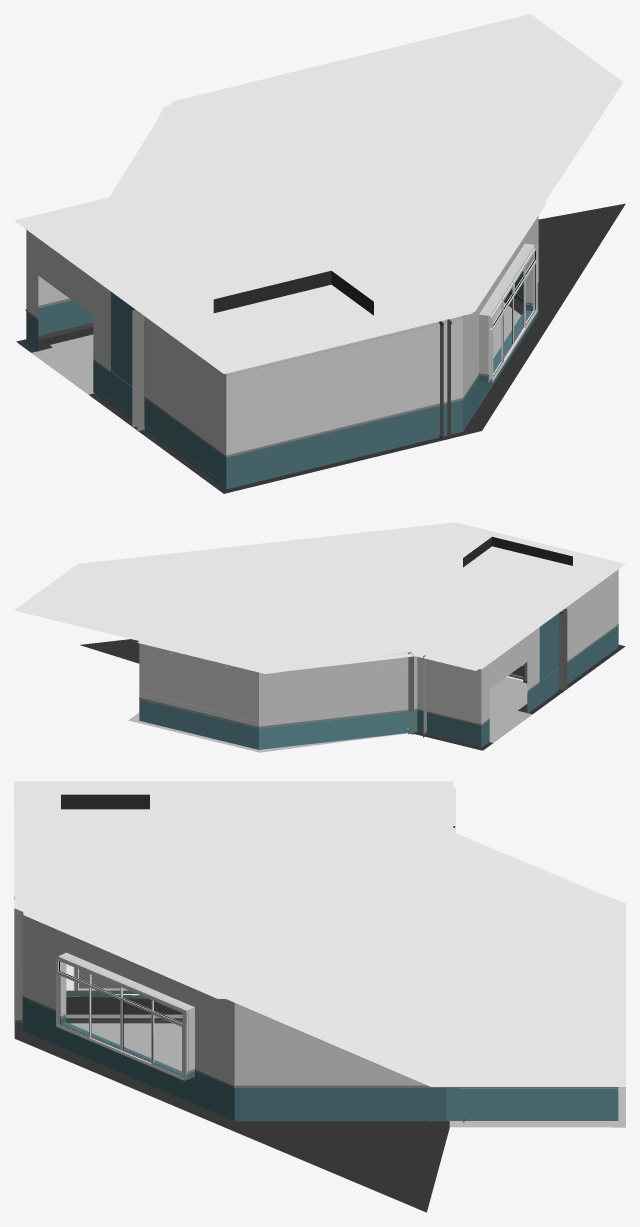
The model's file is SM_H_Building_Tide_MedicalRoom_12_ATLAS.fbx.
3 renders of one model, top to bottom at view 1: azimuth 30°, elevation 25°; view 2: azimuth 150°, elevation 25°; view 3: azimuth 270°, elevation 25°, orthographic. The views are drawn at different scales.
Visible parts, largest first — view 1: SM_H_Building_Tide_MedicalRoom_12_ATLAS; view 2: SM_H_Building_Tide_MedicalRoom_12_ATLAS; view 3: SM_H_Building_Tide_MedicalRoom_12_ATLAS.
Part boxes in pixels (<box>): SM_H_Building_Tide_MedicalRoom_12_ATLAS: <box>14,14,625,493</box>; SM_H_Building_Tide_MedicalRoom_12_ATLAS: <box>14,522,625,752</box>; SM_H_Building_Tide_MedicalRoom_12_ATLAS: <box>14,781,625,1212</box>.
Bounding box in the file's own units: 2162 × 1826 × 463.
